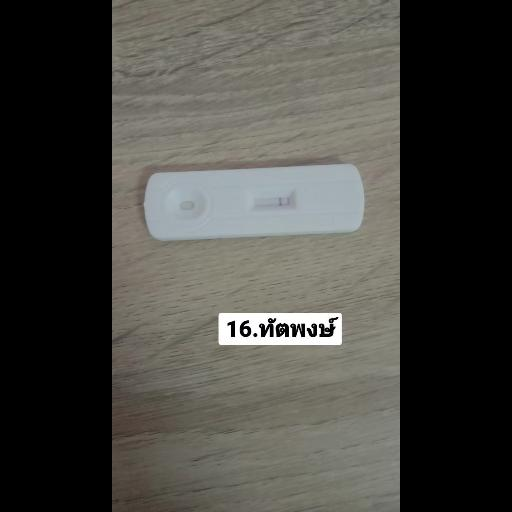Neg: (142, 162, 366, 243)
